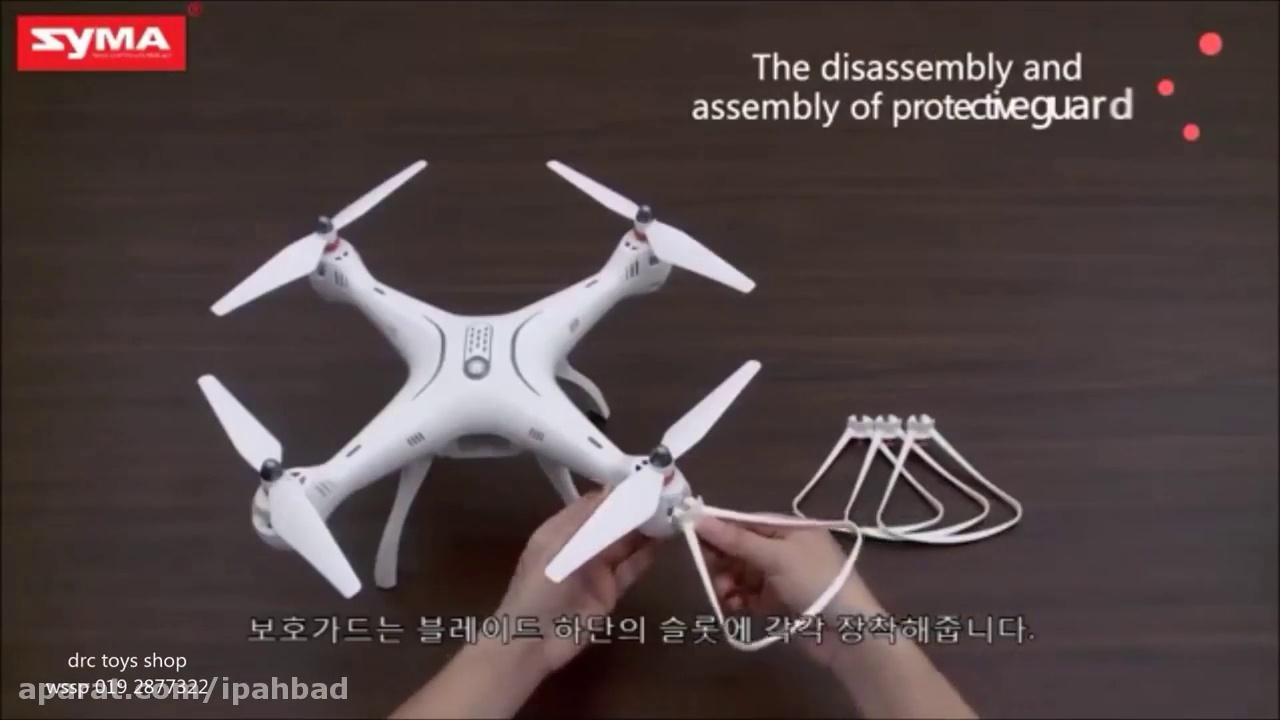drone: (187, 156, 767, 600)
